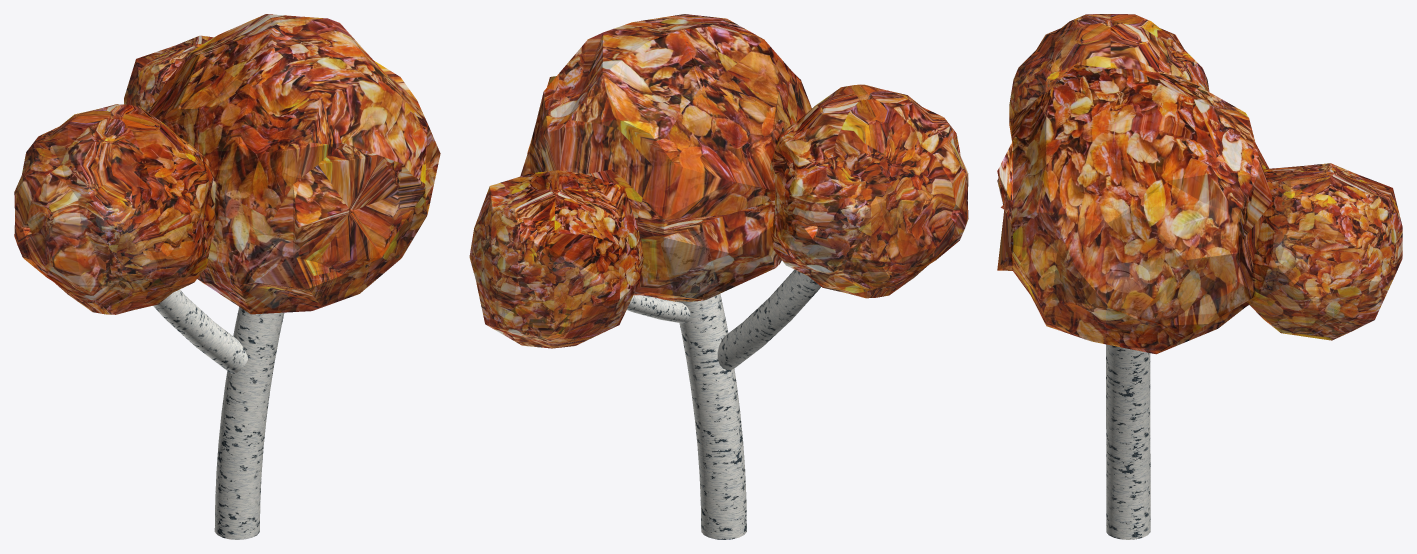
Rendered from baum2.DAE.
3 renders of one model, left to right at view 1: azimuth 30°, elevation 25°; view 2: azimuth 150°, elevation 25°; view 3: azimuth 270°, elevation 25°, orthographic. The views are drawn at different scales.
Parts seen in each view (by area): view 1: Geosph_re003, Geosph_re001, Zylinder001, Geosph_re002, Zylinder002, Zylinder003; view 2: Geosph_re003, Geosph_re001, Geosph_re002, Zylinder001, Zylinder002, Zylinder003; view 3: Geosph_re003, Geosph_re002, Geosph_re001, Zylinder001, Zylinder003.
Boxes of the visible parts, bbox=[...] form: Geosph_re003: bbox=[140, 14, 440, 314]; Geosph_re001: bbox=[14, 104, 217, 314]; Zylinder001: bbox=[214, 235, 299, 539]; Geosph_re002: bbox=[124, 35, 285, 192]; Zylinder002: bbox=[96, 205, 248, 373]; Zylinder003: bbox=[223, 190, 251, 261]; Geosph_re003: bbox=[520, 14, 816, 301]; Geosph_re001: bbox=[762, 84, 968, 298]; Geosph_re002: bbox=[469, 170, 643, 348]; Zylinder001: bbox=[661, 231, 746, 539]; Zylinder002: bbox=[717, 198, 871, 370]; Zylinder003: bbox=[553, 256, 690, 323]; Geosph_re003: bbox=[997, 64, 1274, 354]; Geosph_re002: bbox=[1236, 163, 1402, 340]; Geosph_re001: bbox=[1009, 14, 1209, 196]; Zylinder001: bbox=[1106, 263, 1150, 539]; Zylinder003: bbox=[1178, 253, 1309, 316].
Bounding box in the file's own units: 73.55 × 66.36 × 86.55.
